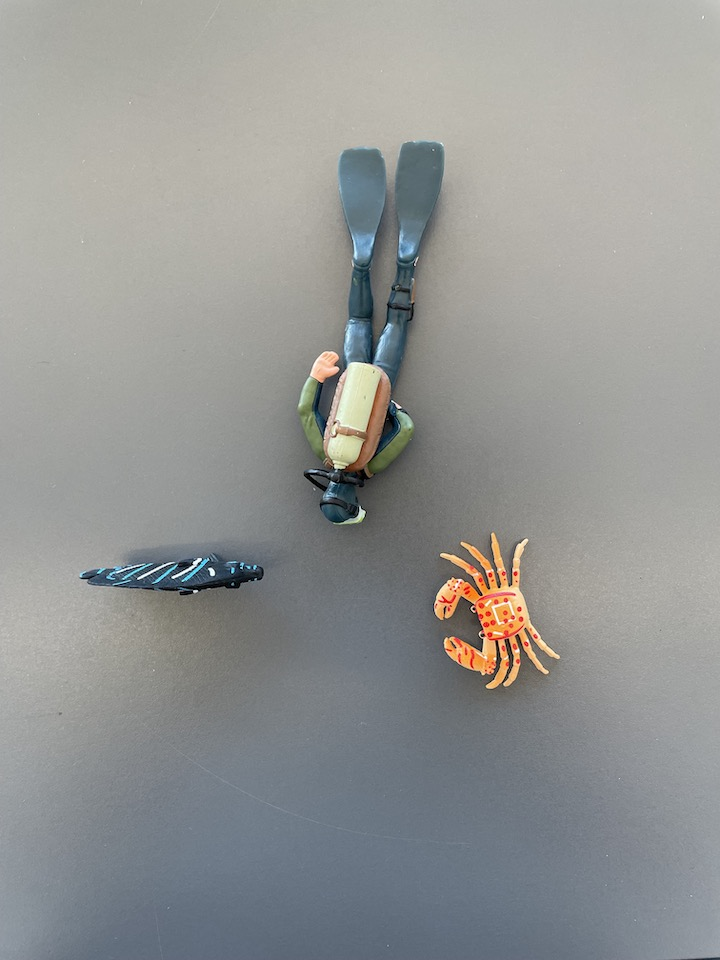crab: (420, 528, 566, 689)
diver: (291, 137, 448, 532)
fish: (80, 553, 271, 600)
